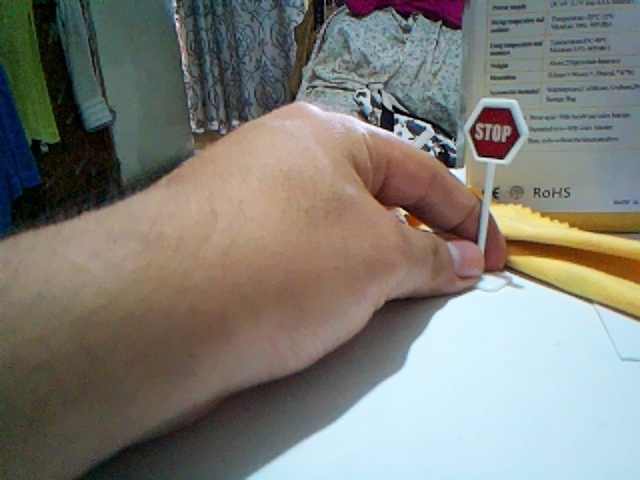stop_sign: (465, 99, 527, 162)
